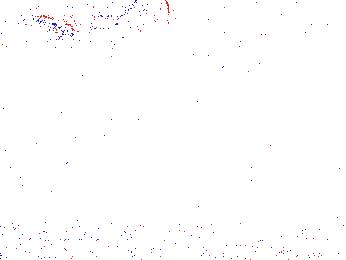moon jellyfish: (202, 68, 292, 128), (105, 1, 172, 64), (170, 14, 226, 87), (189, 1, 254, 54), (30, 1, 97, 39), (241, 8, 313, 41)
